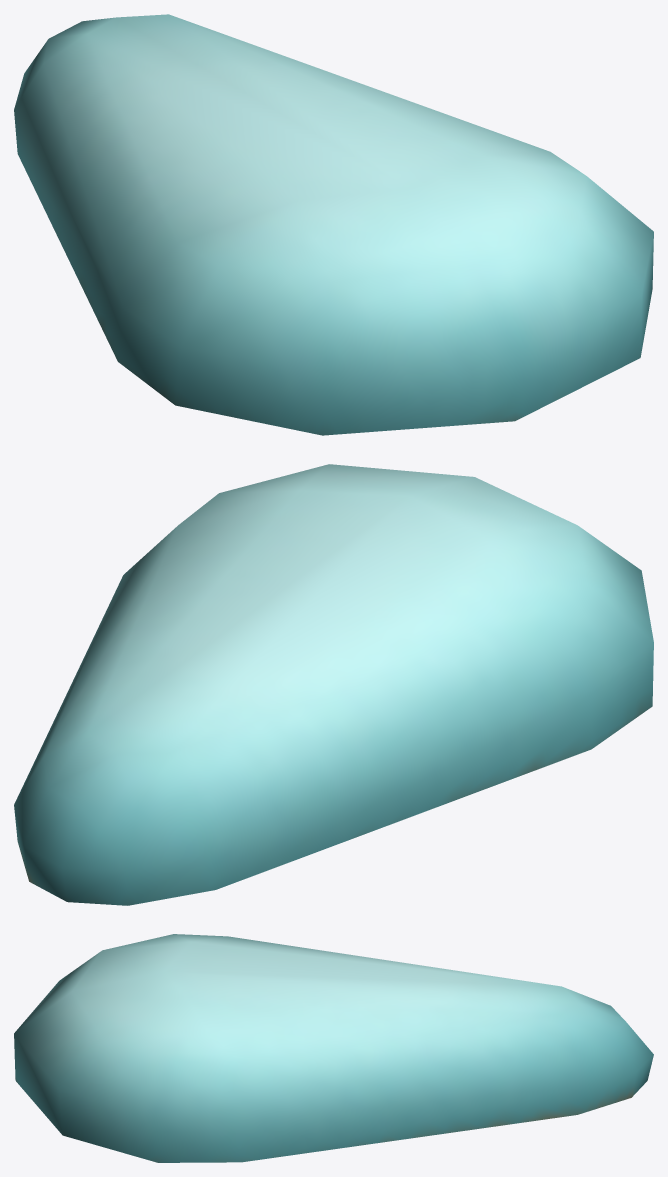
File: Beach_shell_02.fbx
The picture shows the model from 3 angles, top to bottom: view 1: azimuth 30°, elevation 25°; view 2: azimuth 150°, elevation 25°; view 3: azimuth 270°, elevation 25°; orthographic projection. The views are drawn at different scales.
Visible parts, largest first — view 1: Beach_shell_02; view 2: Beach_shell_02; view 3: Beach_shell_02.
Part boxes in pixels (bbox=[...]): Beach_shell_02: bbox=[14, 14, 653, 435]; Beach_shell_02: bbox=[14, 464, 653, 905]; Beach_shell_02: bbox=[14, 934, 653, 1162].
Size of the model in its own units: 23.95 by 7.44 by 39.42.
